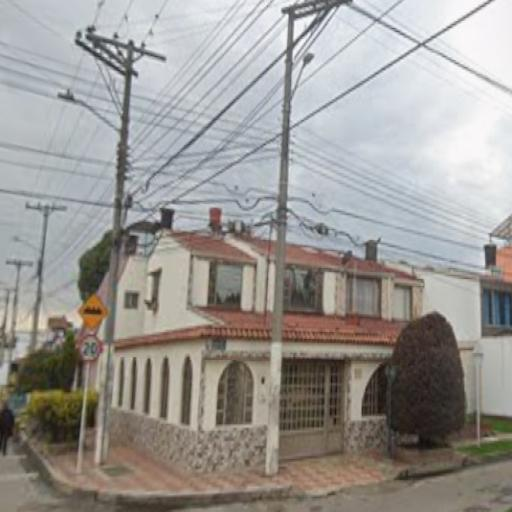poste: (90, 29, 136, 470), (261, 4, 298, 476), (22, 192, 53, 354)
